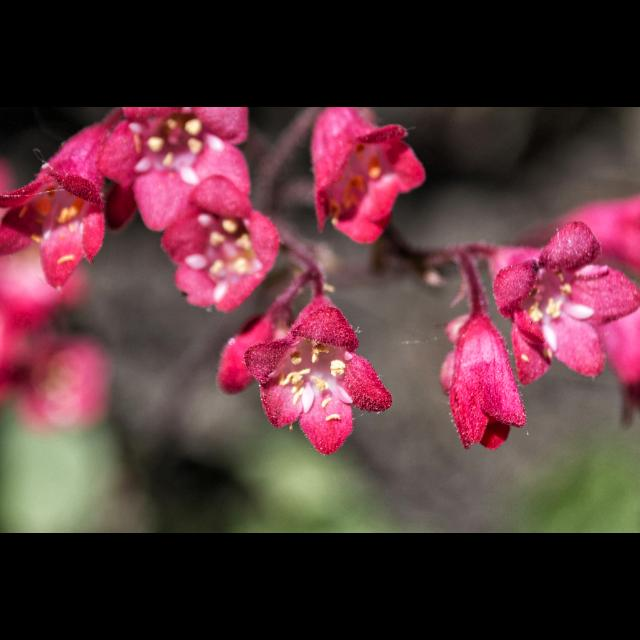Flower: (232, 297, 404, 453), (499, 222, 639, 384), (0, 117, 114, 283), (104, 107, 253, 229), (162, 171, 278, 313), (311, 108, 429, 242), (0, 240, 96, 380), (439, 306, 525, 452), (566, 192, 640, 272)
